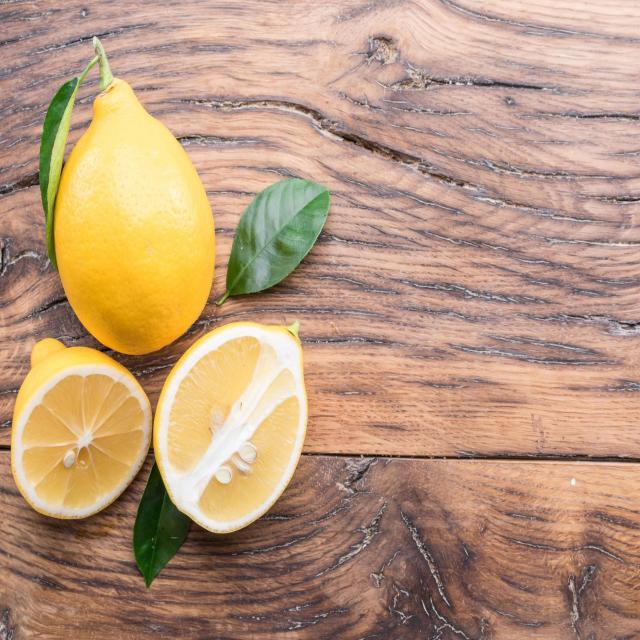lemon: (31, 24, 221, 361), (148, 318, 310, 538), (8, 334, 156, 524)
